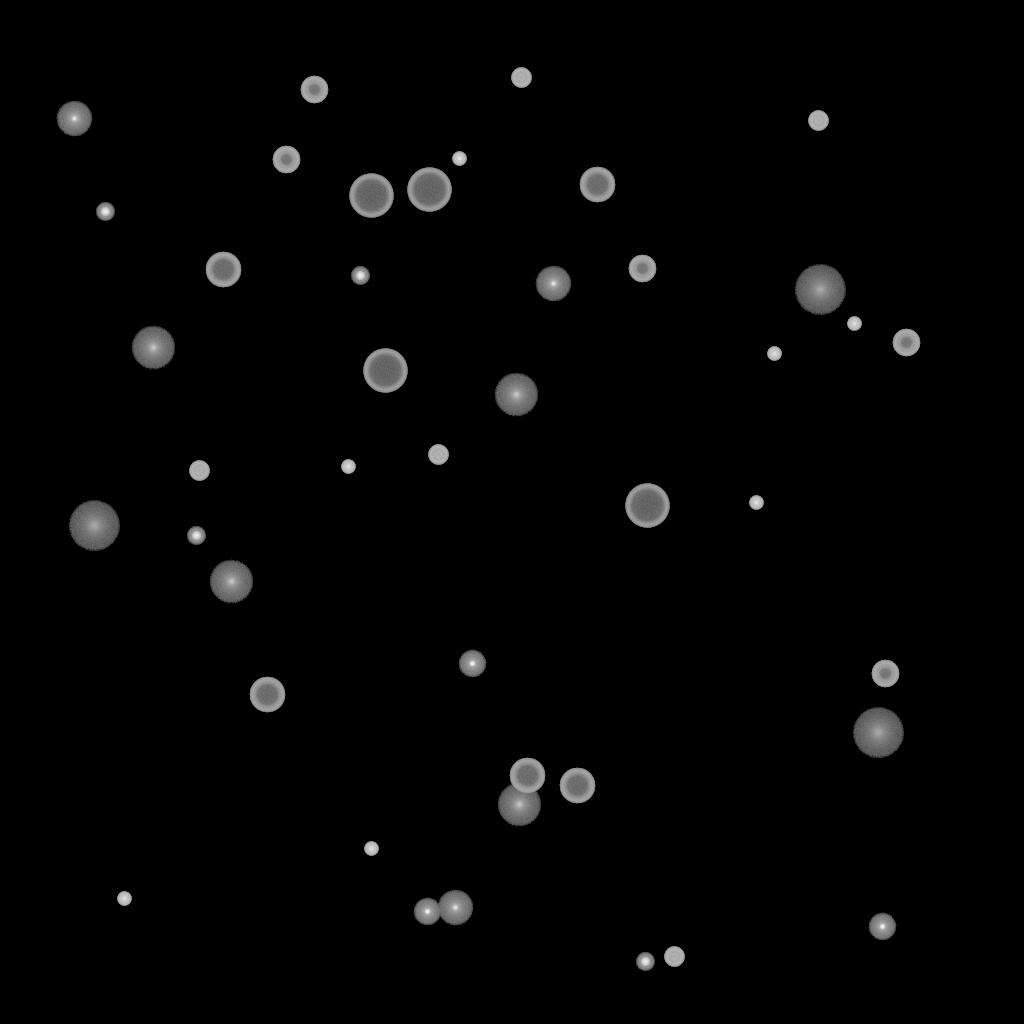depth:-10: (413, 898, 441, 926), (868, 913, 896, 941), (458, 650, 486, 678)
depth:-20: (96, 203, 114, 221), (187, 527, 205, 545), (351, 267, 369, 285), (636, 953, 654, 971)
depth:-30: (117, 892, 131, 906), (452, 152, 466, 166), (749, 496, 763, 510), (341, 460, 355, 474), (847, 317, 861, 331), (767, 347, 781, 361), (364, 842, 378, 856)
depth:-40: (664, 947, 684, 967), (189, 461, 209, 481), (511, 68, 531, 88), (808, 111, 828, 131), (428, 445, 448, 465)
depth:-50: (272, 146, 300, 174), (628, 255, 656, 283), (892, 329, 920, 357), (871, 660, 899, 688), (300, 76, 328, 104)
depth:-60: (579, 167, 615, 203), (205, 252, 241, 288), (509, 758, 545, 794), (559, 768, 595, 804), (249, 677, 285, 713)
depth:-70: (349, 174, 393, 218), (363, 349, 407, 393), (407, 168, 451, 212), (625, 484, 669, 528)
depth:0: (56, 101, 92, 137), (437, 890, 473, 926), (535, 266, 571, 302)
depth:10: (497, 783, 541, 827), (209, 560, 253, 604), (494, 373, 538, 417), (131, 326, 175, 370)
depth:20: (794, 265, 846, 315), (68, 501, 120, 551), (852, 708, 904, 758)
